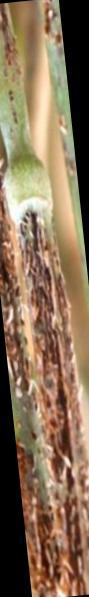Wheat: (8, 263, 84, 442)
